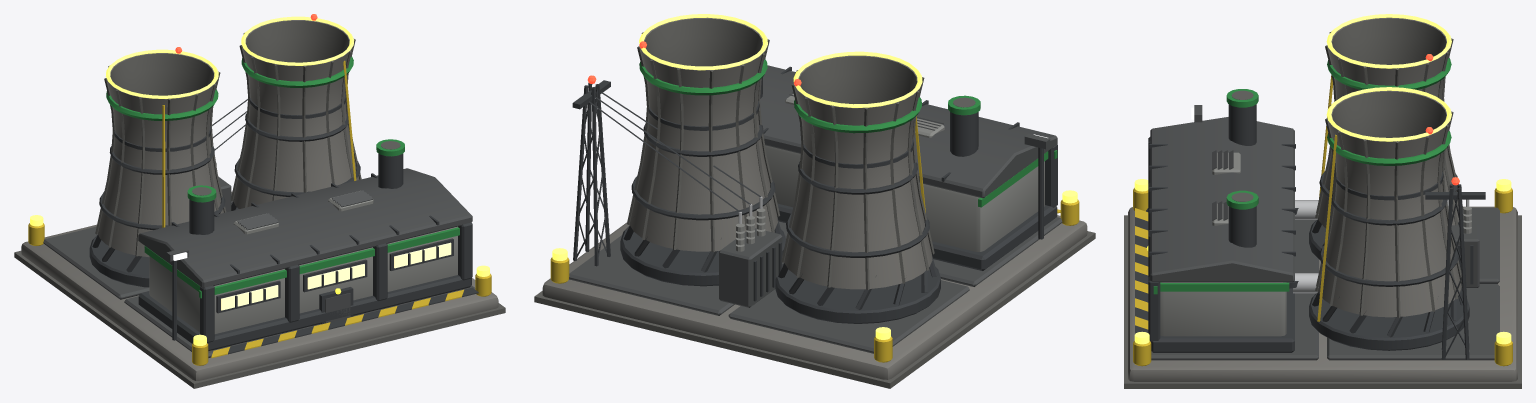
Rendered from power.glb.
3 views of the same model, side by side, from view 1: azimuth 30°, elevation 25°; view 2: azimuth 150°, elevation 25°; view 3: azimuth 270°, elevation 25° (orthographic). The views are drawn at different scales.
Visible parts, largest first — view 1: PowerPlant_Walls, PowerPlant_Foundation, PowerPlant_Details, PowerPlant_Frame; view 2: PowerPlant_Walls, PowerPlant_Foundation, PowerPlant_Details, PowerPlant_Frame; view 3: PowerPlant_Walls, PowerPlant_Foundation, PowerPlant_Details, PowerPlant_Frame.
Part boxes in pixels (<box>): PowerPlant_Walls: <box>98,20,472,333</box>; PowerPlant_Foundation: <box>14,191,505,388</box>; PowerPlant_Details: <box>95,14,439,340</box>; PowerPlant_Frame: <box>89,199,472,350</box>; PowerPlant_Walls: <box>629,17,1057,289</box>; PowerPlant_Foundation: <box>534,190,1095,388</box>; PowerPlant_Details: <box>572,14,1050,307</box>; PowerPlant_Frame: <box>573,83,1057,323</box>; PowerPlant_Walls: <box>1150,17,1461,336</box>; PowerPlant_Foundation: <box>1124,179,1521,388</box>; PowerPlant_Details: <box>1146,14,1485,321</box>; PowerPlant_Frame: <box>1148,137,1469,359</box>.
Size of the model in its own units: 1.98 by 1.28 by 1.98.
